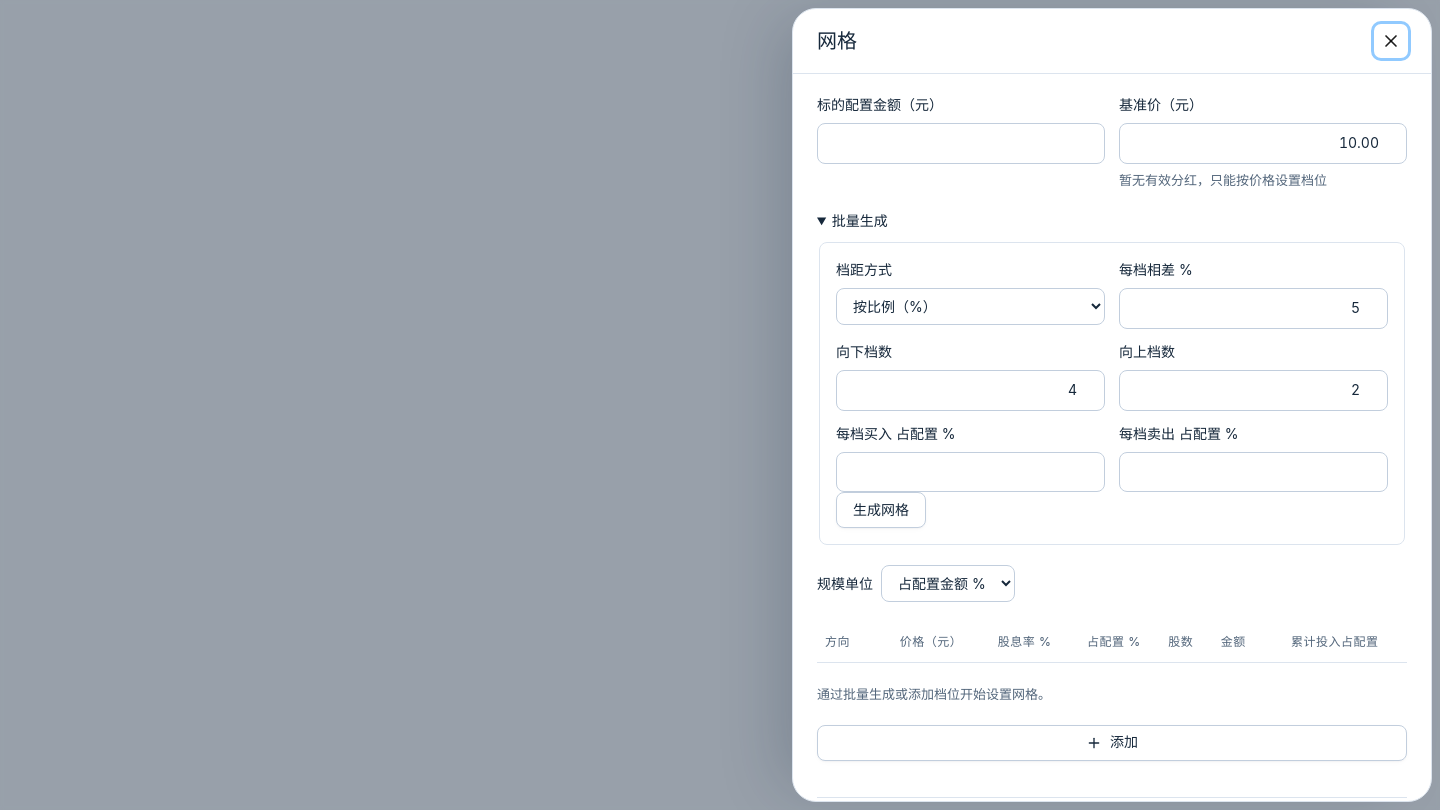
Test: blocks duplicate or base-equal prices and plans without a buy level
The width and height of the screenshot is (1440, 810).
Check: the text "暂无有效分红，只能按价格设置档位" is shown, box [1119, 172, 1327, 188]
Type "10000" into the number field labelled "标的配置金额（元）" at (961,144), box [817, 123, 1105, 164]
Click the button "添加" at (1112,743), box [817, 725, 1407, 761]
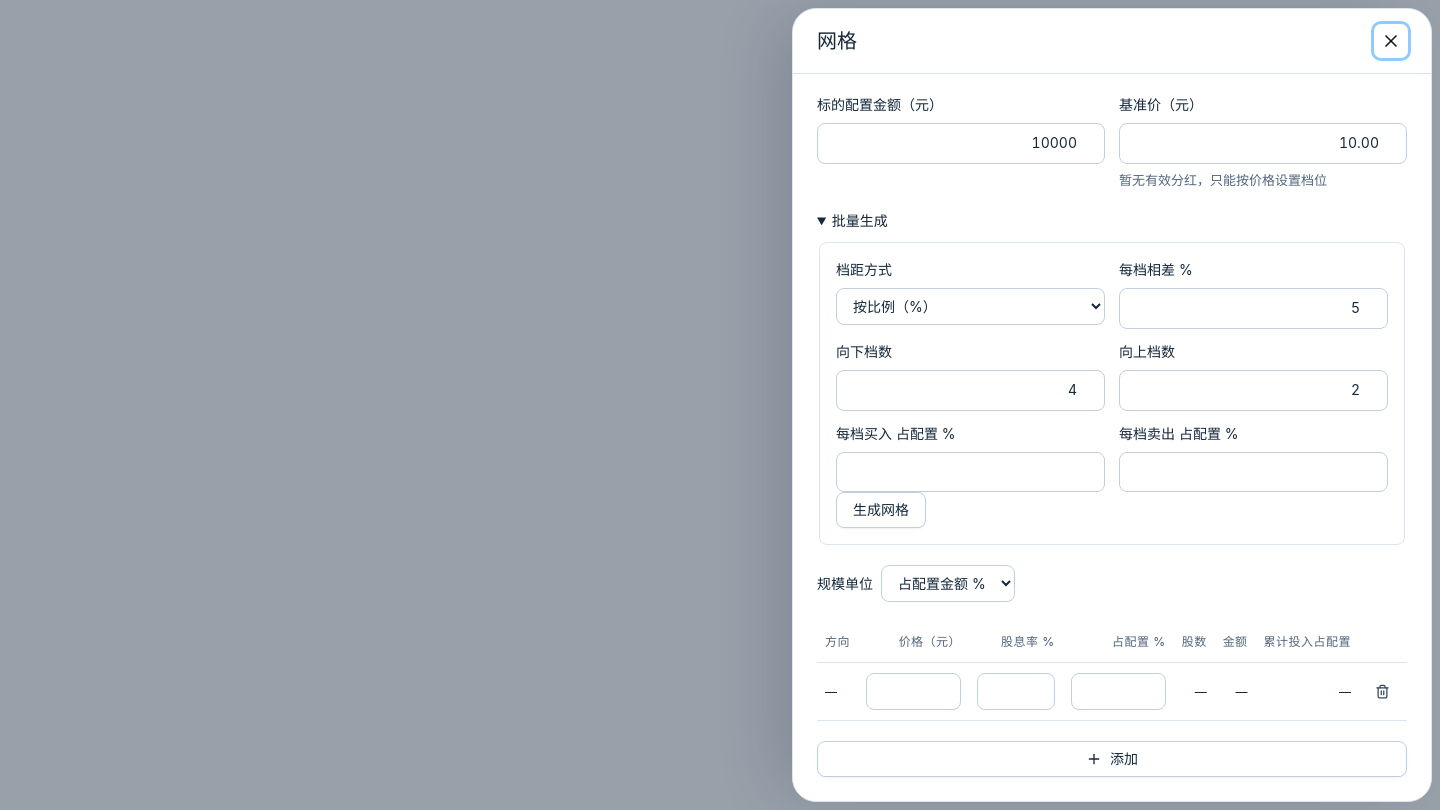
Type "11" into the number field named "第 1 档价格" at (914,691), box [866, 672, 961, 710]
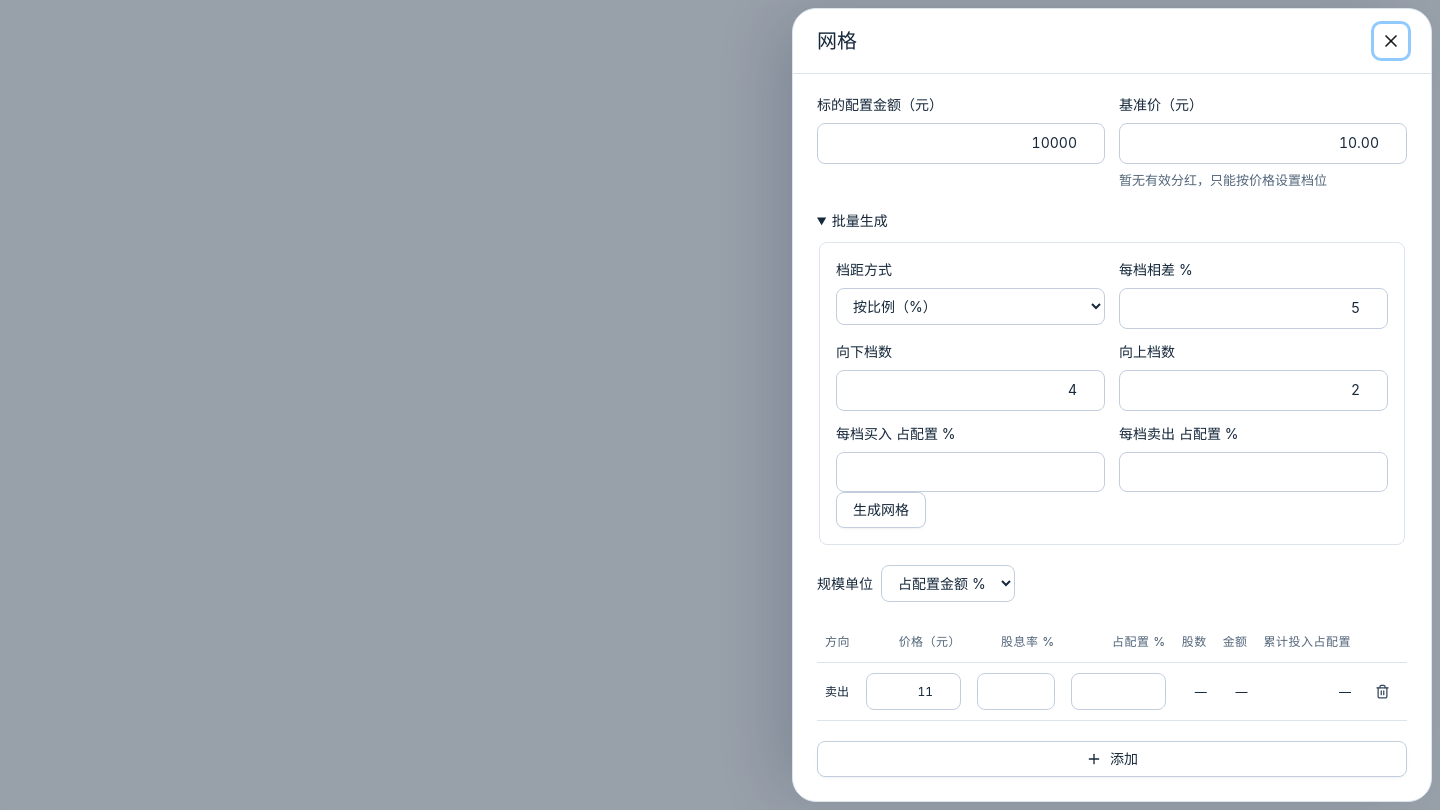
Type "10" into the number field named "第 1 档规模" at (1118,691), box [1071, 672, 1166, 710]
(page scrolled)
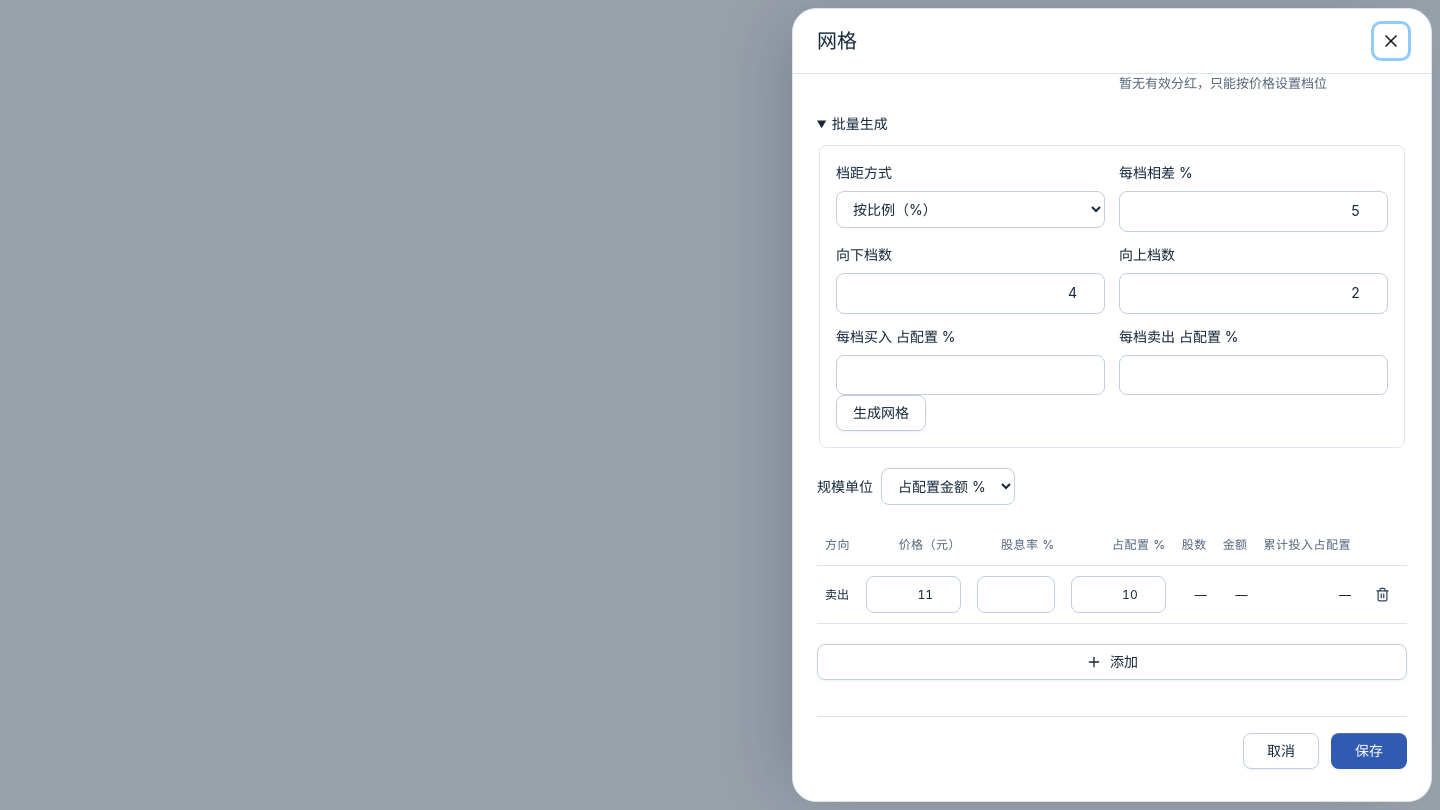
Click the button "保存" at (1369,751), box [1331, 733, 1407, 769]
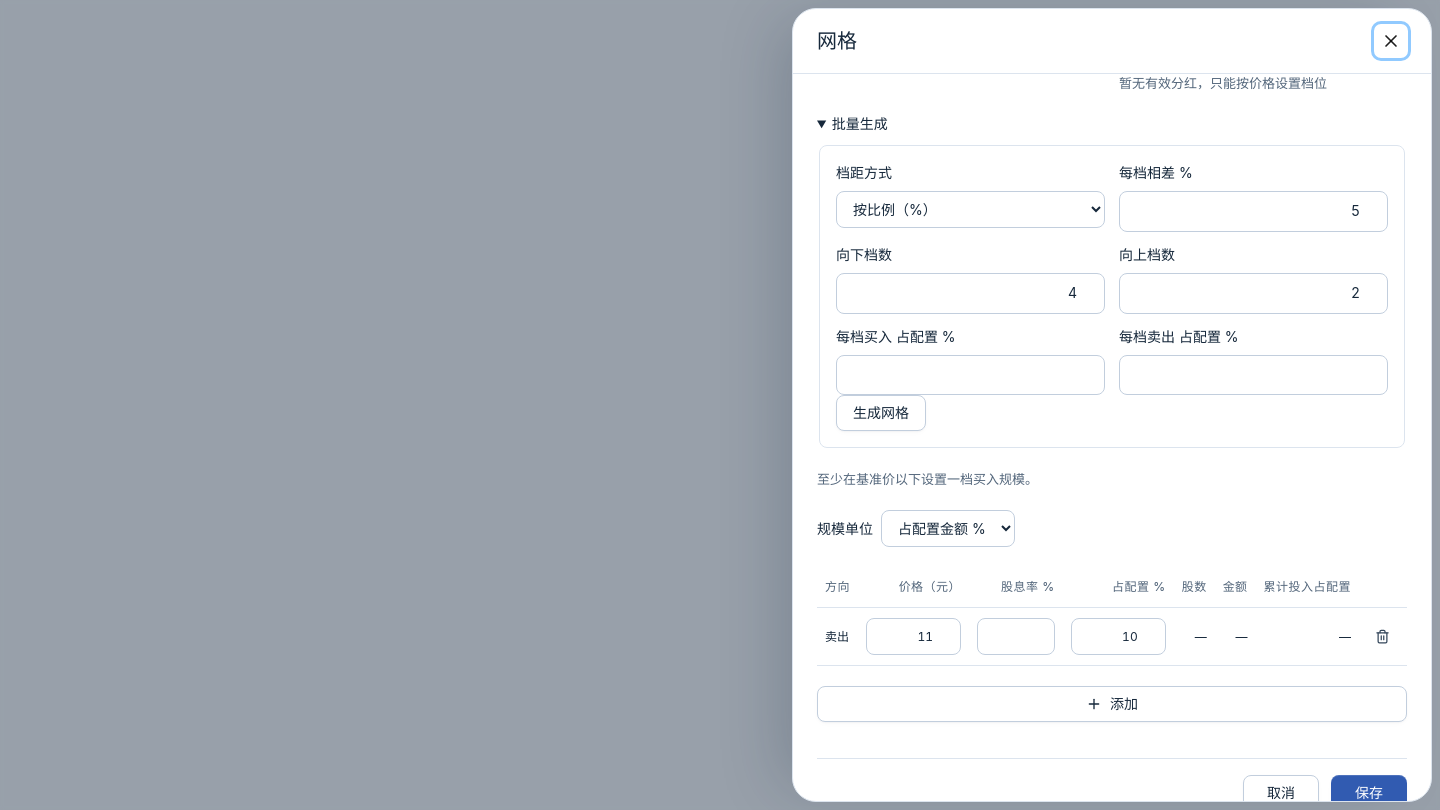
Check: the message shows "基准价以下", box [817, 471, 1038, 487]
Replace the text in the number field named "第 1 档价格" with "10" at (914,636), box [866, 618, 961, 655]
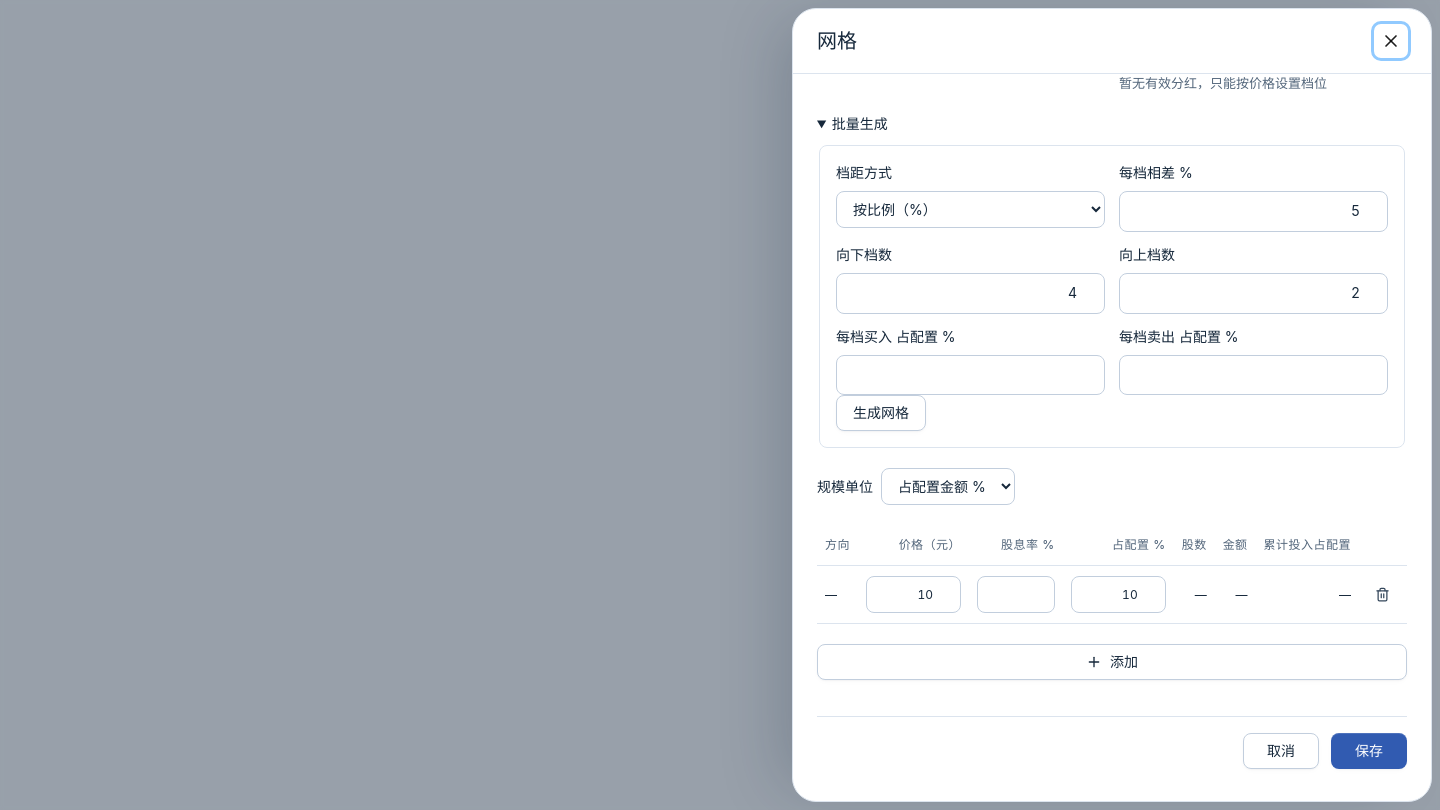
Click the button "保存" at (1369,751), box [1331, 733, 1407, 769]
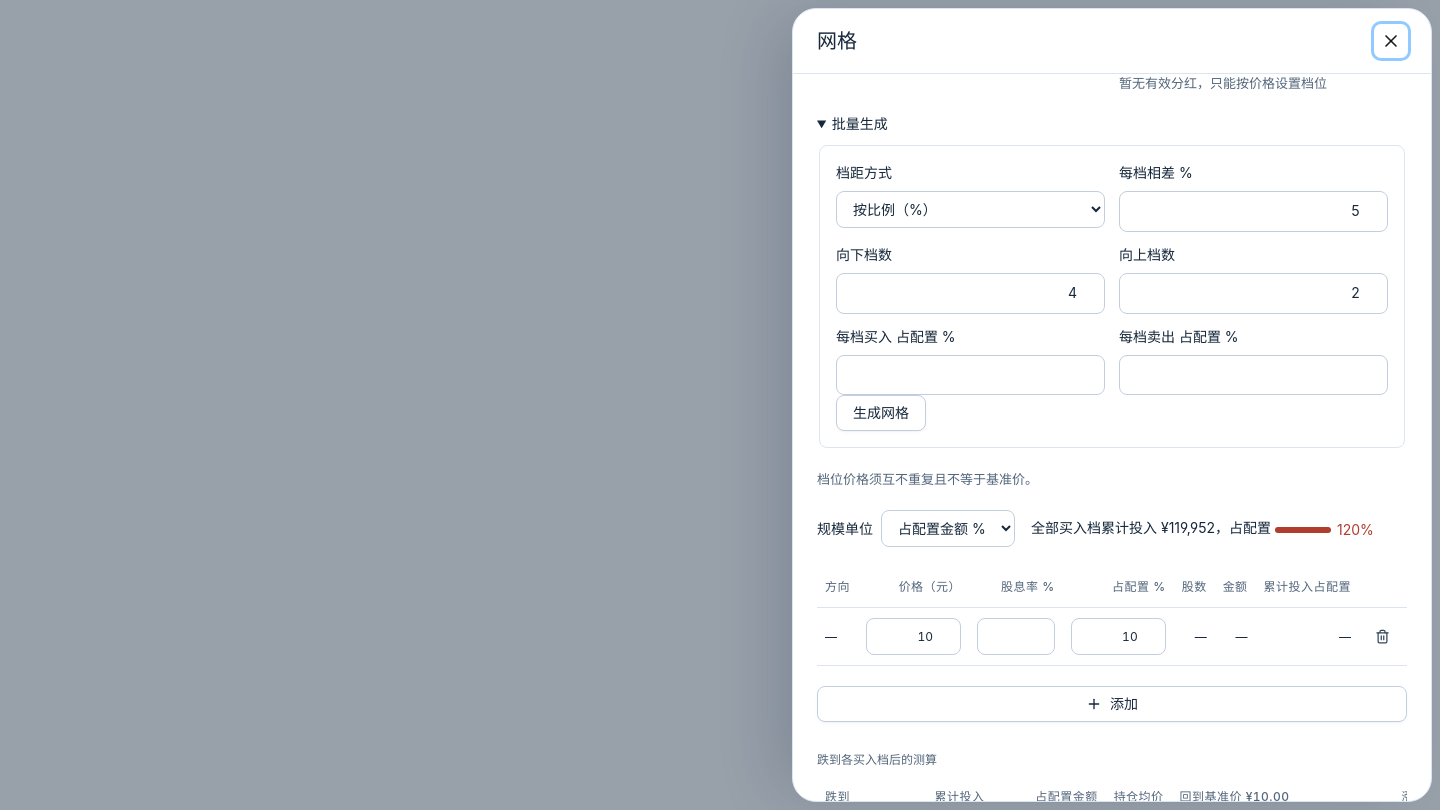
Check: the number field named "第 1 档股息率" is disabled, box [977, 618, 1055, 655]
Check: the message "档位价格须互不重复且不等于基准价。" is shown, box [817, 471, 1038, 487]
